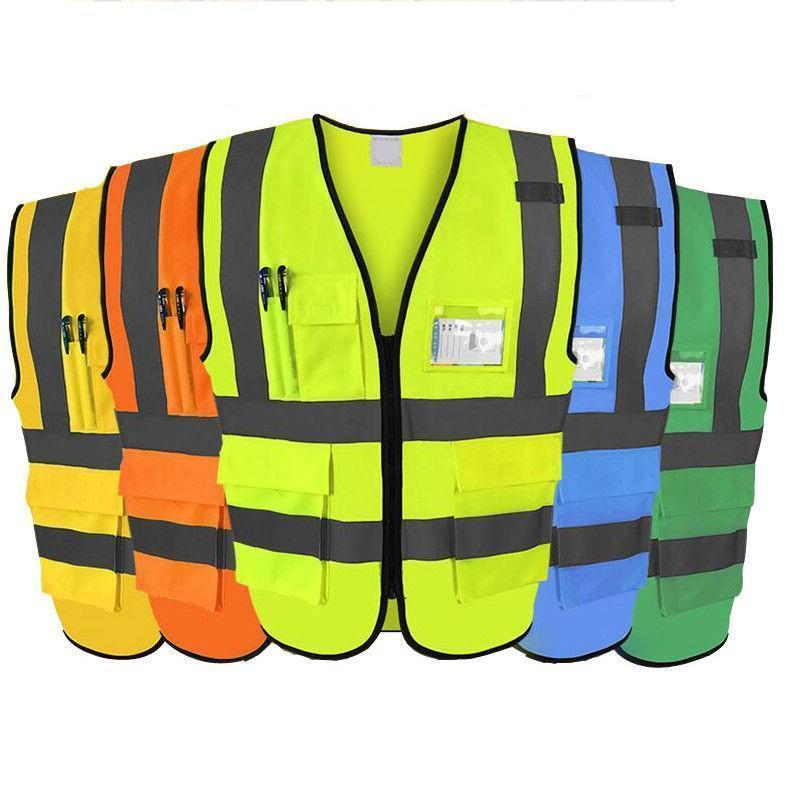Glass: (194, 98, 586, 659)
